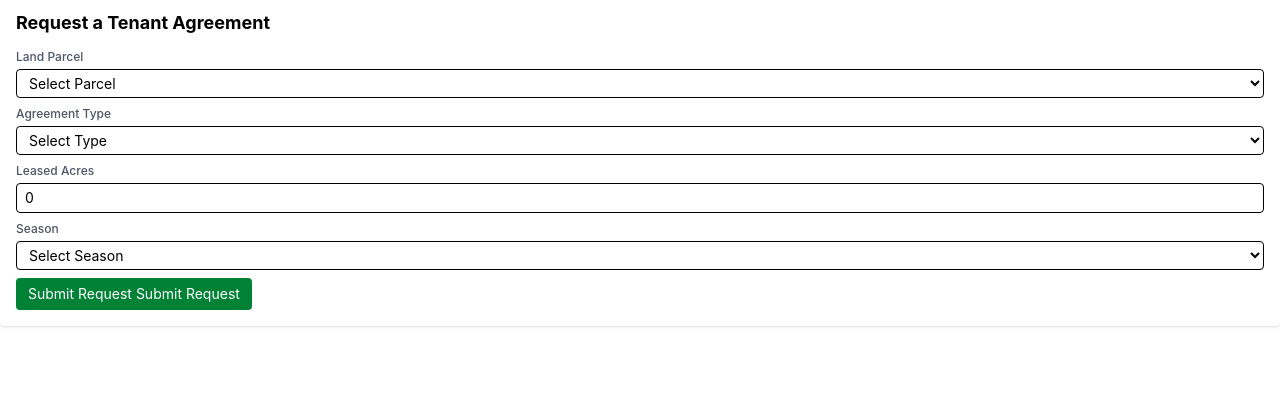
Test: RequestAgreementForm.vue › FIXED: isSubmitting disables the button during the request, preventing a double submit
This screenshot has width=1280, height=402.
Select "p1" in the 1st dropdown at (640, 84), box [16,69,1264,98]
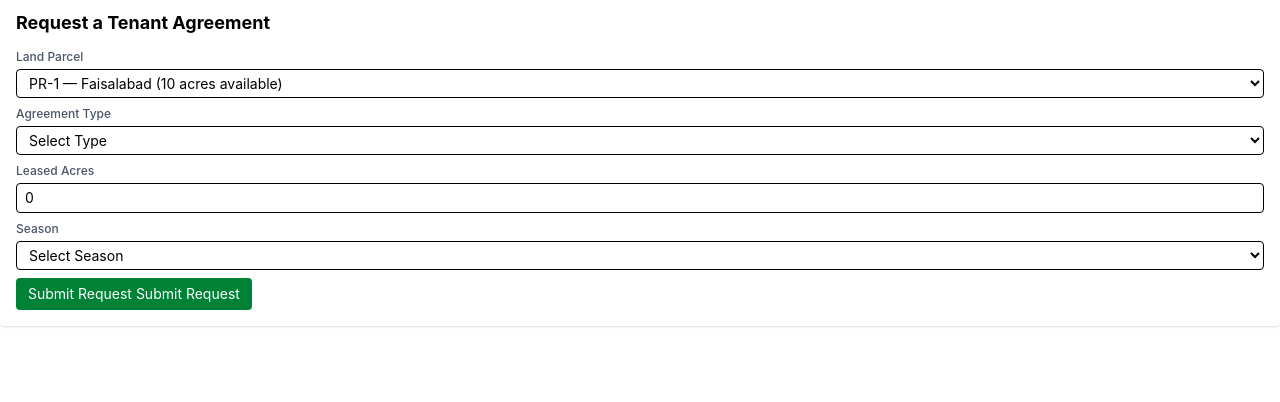
Select "Theka (Fixed Rent)" in the 2nd dropdown at (640, 140), box [16,126,1264,155]
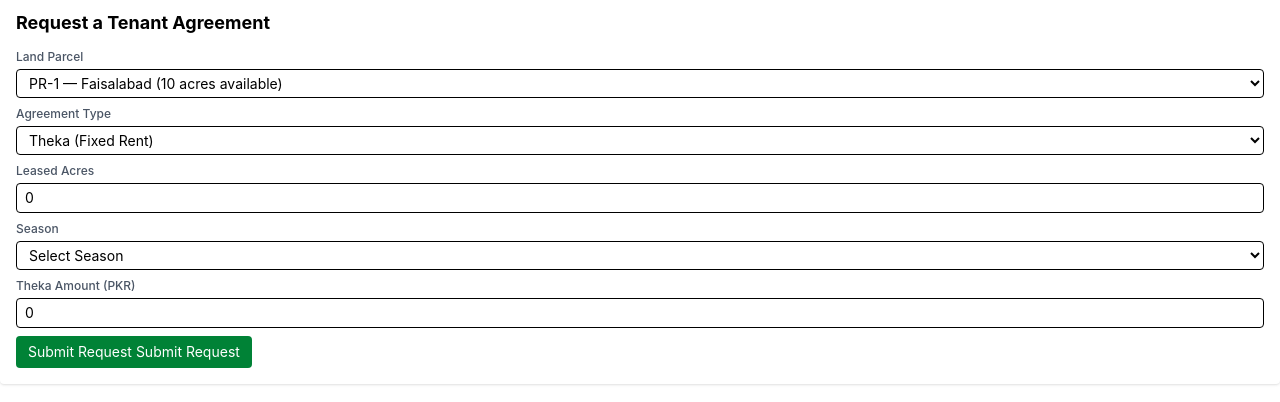
Replace the text in the 1st number field with "5" at (640, 198), box [16,183,1264,213]
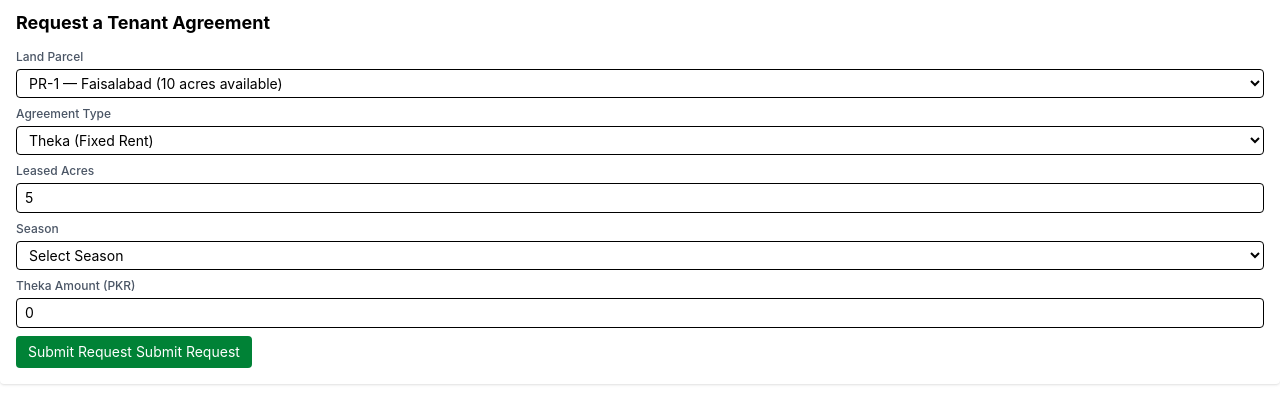
Select "Rabi" in the 3rd dropdown at (640, 256), box [16,241,1264,270]
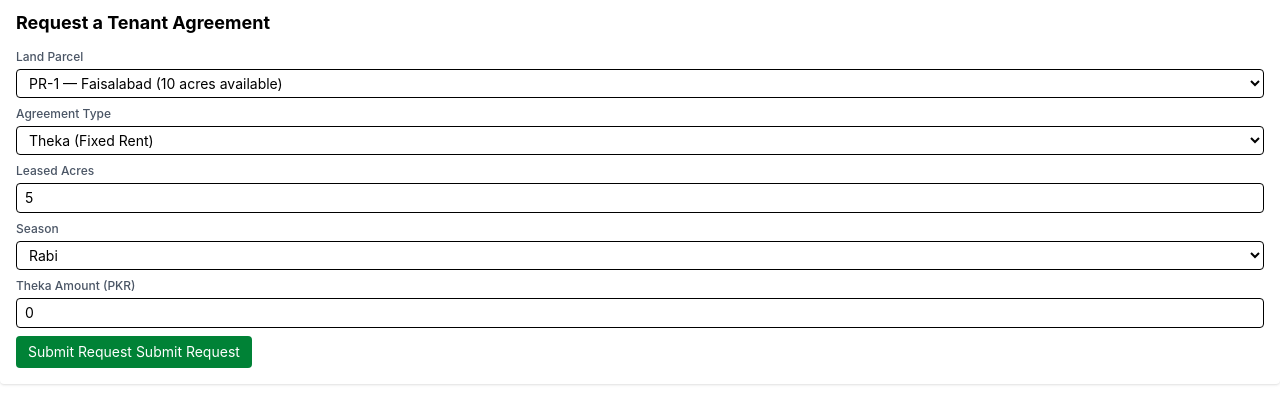
Replace the text in the 2nd number field with "50000" at (640, 313), box [16,298,1264,328]
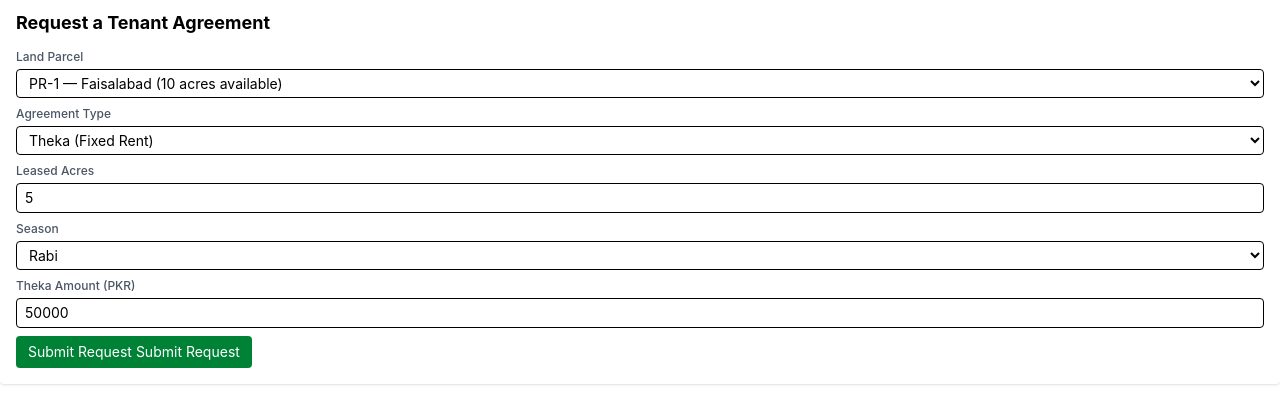
Click the button "Submit Request Submit Request" at (134, 352), box [16,336,252,368]
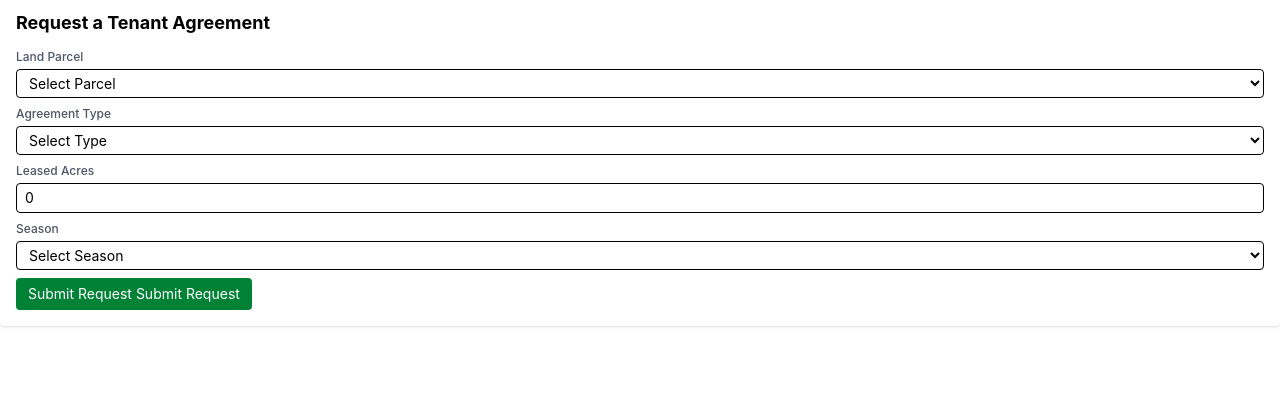
Check: the button "Submit Request Submit Request" is disabled, box [16,278,252,310]
